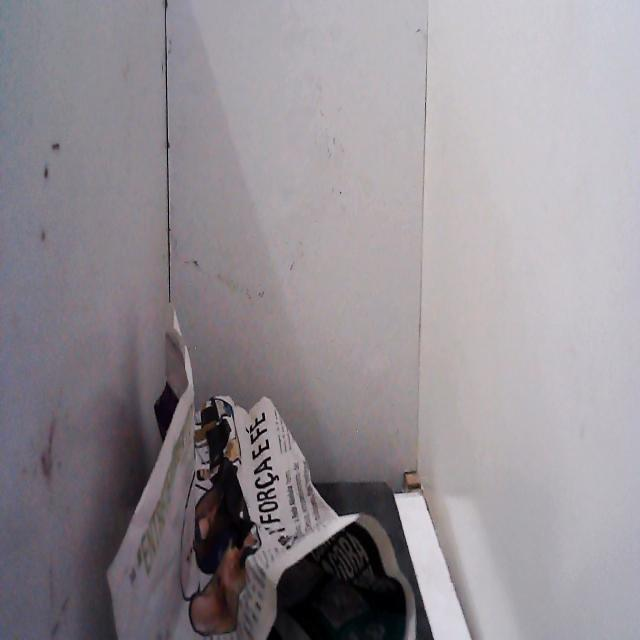papel: (98, 290, 422, 640)
